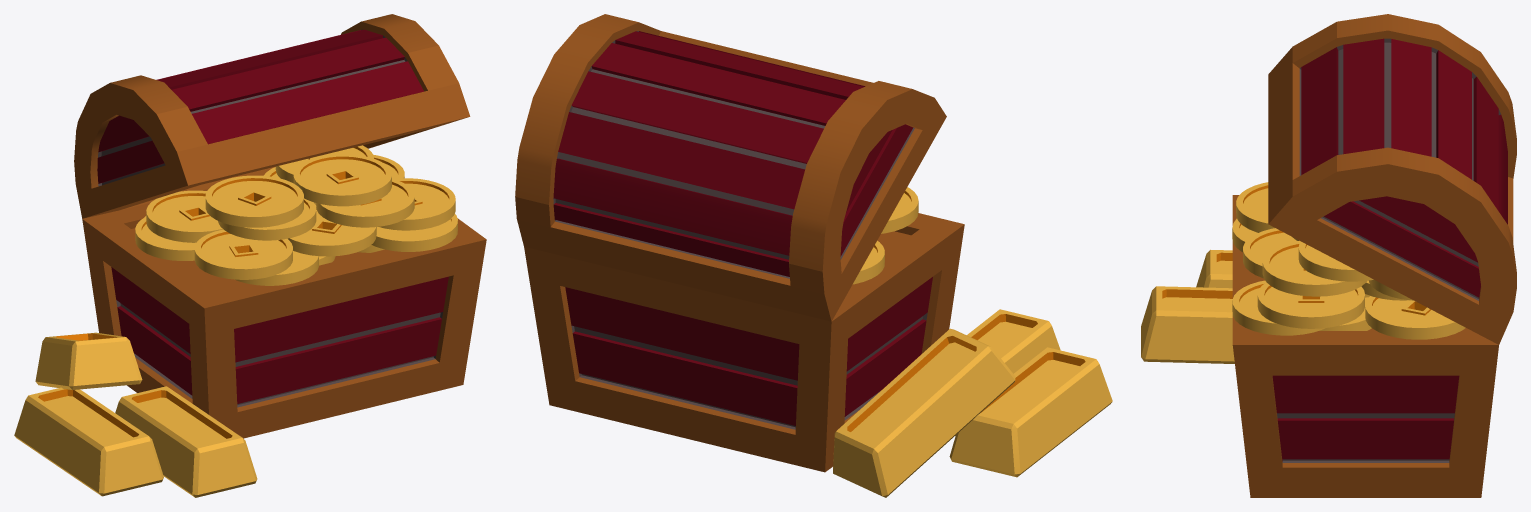
File: schatztruhe.FBX
The picture shows the model from 3 angles, left to right: view 1: azimuth 30°, elevation 25°; view 2: azimuth 150°, elevation 25°; view 3: azimuth 270°, elevation 25°; orthographic projection. The views are drawn at different scales.
Parts seen in each view (by area): view 1: beschlag, truhe_deckel_beschlag, barren, holz, truhe_deckel_holz, muenze_018, muenze_019, muenze_010, muenze_011, muenze_015, truhe_fugen, muenze_012 (+7 smaller); view 2: truhe_deckel_holz, truhe_deckel_beschlag, beschlag, barren, holz, truhe_deckel_fuge, truhe_fugen, muenze_010, muenze_009; view 3: truhe_deckel_beschlag, truhe_deckel_holz, beschlag, holz, barren, truhe_deckel_fuge, muenze_013, muenze_005, muenze_015, truhe_fugen, muenze_006, muenze_019 (+4 smaller).
Boxes of the visible parts, x1,y1,x2,y2 form: beschlag: (82,175,486,438); truhe_deckel_beschlag: (74,14,470,218); barren: (14,332,257,497); holz: (111,267,448,403); truhe_deckel_holz: (97,29,423,183); muenze_018: (205,175,303,227); muenze_019: (293,154,391,206); muenze_010: (194,229,292,279); muenze_011: (146,190,223,242); muenze_015: (316,178,414,227); truhe_fugen: (116,300,442,407); muenze_012: (288,204,376,256); truhe_deckel_holz: (553,31,912,276); truhe_deckel_beschlag: (515,14,946,321); beschlag: (524,213,964,472); barren: (833,309,1112,497); holz: (565,277,932,425); truhe_deckel_fuge: (553,31,914,278); truhe_fugen: (571,313,927,429); muenze_010: (881,187,918,233); muenze_009: (852,240,884,284); truhe_deckel_beschlag: (1268,14,1516,344); truhe_deckel_holz: (1301,38,1507,297); beschlag: (1232,195,1498,497); holz: (1272,375,1459,461); barren: (1141,249,1234,363); truhe_deckel_fuge: (1299,38,1500,300); muenze_013: (1257,282,1364,328); muenze_005: (1365,296,1465,339); muenze_015: (1262,240,1366,296); truhe_fugen: (1277,413,1454,462); muenze_006: (1232,280,1325,335); muenze_019: (1298,241,1373,281).
Bounding box in the file's own units: 1.14 × 0.8636 × 0.8464.
